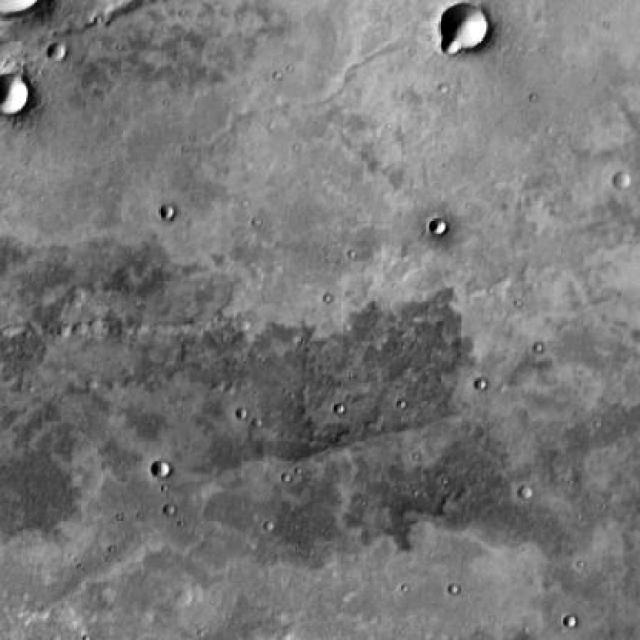crater: (447, 6, 496, 52), (0, 76, 29, 116), (442, 38, 463, 58), (48, 42, 68, 61), (152, 458, 171, 476), (615, 175, 634, 192), (432, 216, 448, 232)
